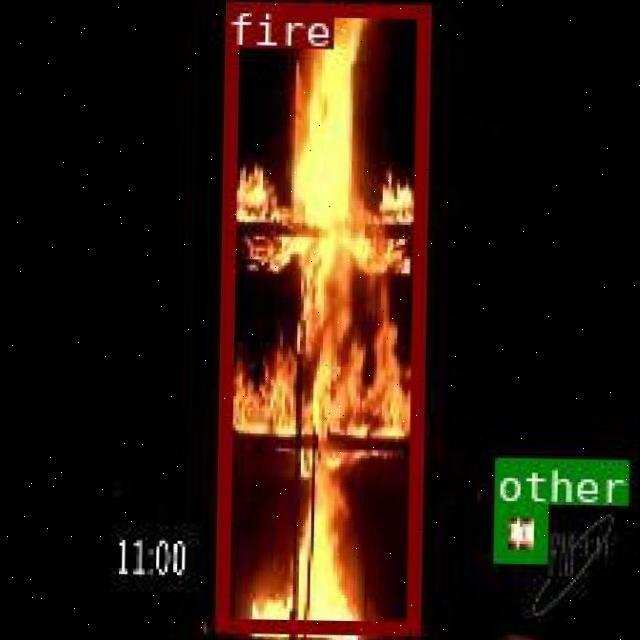fire: (212, 0, 428, 632)
